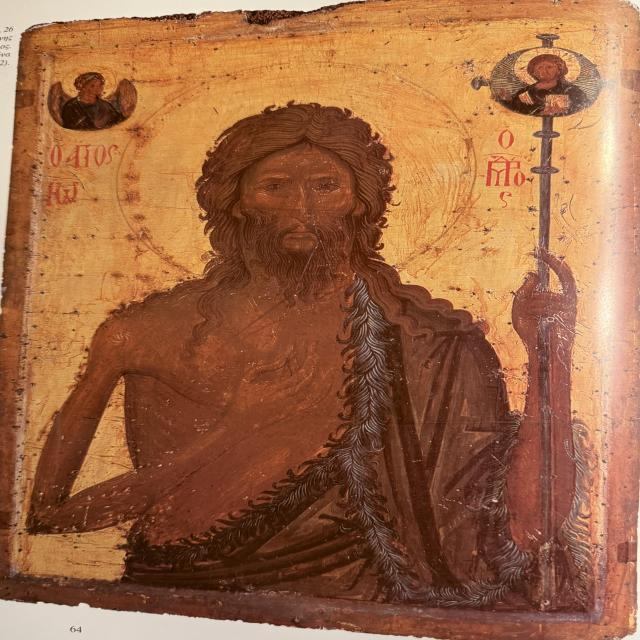angel: (46, 62, 144, 133)
aura: (121, 64, 479, 284), (518, 49, 583, 88), (62, 67, 120, 99)
book: (547, 95, 575, 115)
christ: (495, 48, 600, 119)
saint: (68, 68, 558, 606)
scepter: (490, 33, 610, 612)
wing: (106, 81, 146, 120), (44, 81, 75, 123)
